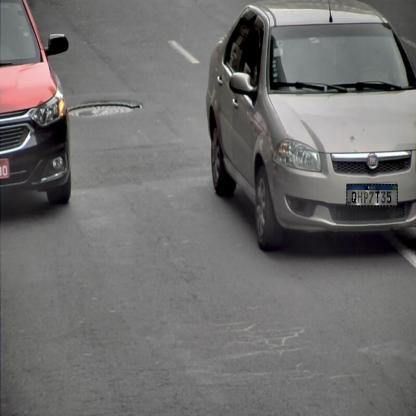PlacaM: (346, 184, 398, 206)
